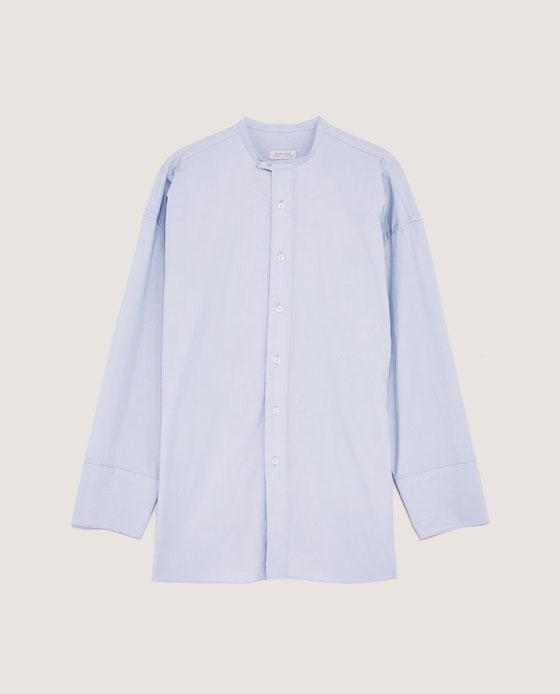teeshirt: (66, 117, 493, 587)
